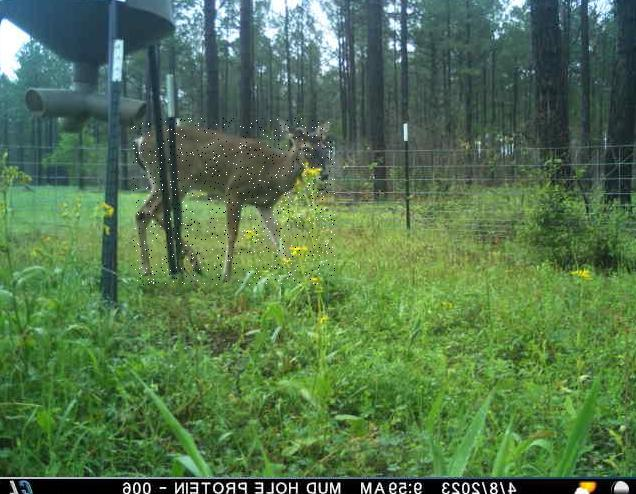Deer: (131, 119, 335, 286)
